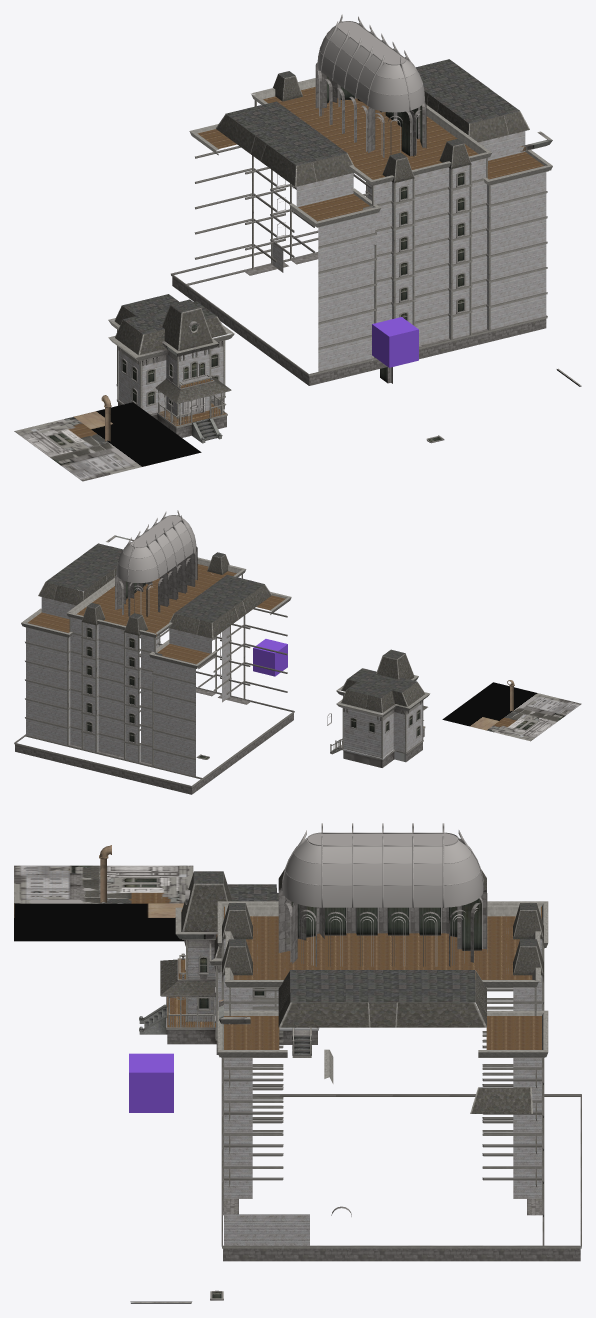
File: C1testcompPlusv2.glb
The picture shows the model from 3 angles, top to bottom: view 1: azimuth 30°, elevation 25°; view 2: azimuth 150°, elevation 25°; view 3: azimuth 270°, elevation 25°; orthographic projection. The views are drawn at different scales.
Parts seen in each view (by area): view 1: Plane, RoundWindowMini, Cube, Sphere.001, RoofslantTall, Sphere.008, RoofSlant1.023, Sphere.009, Sphere.011, Sphere.010, RoofSlant1.013, TinRoofDomeedge (+11 smaller); view 2: Plane, RoundWindowMini, Cube, Sphere.002, Sphere.010, Sphere.011, Sphere.009, RoofSlant1.027, Sphere.008, Sphere.003, RoofSlant1.017, RoofSlant1.031 (+9 smaller); view 3: Plane, RoundWindowMini, Cube, Sphere.003, TinRoofDomeedge, RoofSlant1.016, RoofSlant1.012, Sphere.004, Sphere.005, Sphere.006, TinRoofDomeside, defaultMaterial.009 (+33 smaller).
Boxes of the visible parts, <box> form: Plane: <box>14,402,201,481</box>; RoundWindowMini: <box>108,318,234,443</box>; Cube: <box>372,317,418,367</box>; Sphere.001: <box>368,57,410,112</box>; RoofslantTall: <box>178,308,213,350</box>; Sphere.008: <box>322,27,359,80</box>; RoofSlant1.023: <box>312,153,353,181</box>; Sphere.009: <box>333,35,370,89</box>; Sphere.011: <box>356,52,393,105</box>; Sphere.010: <box>345,44,382,97</box>; RoofSlant1.013: <box>468,115,508,142</box>; TinRoofDomeedge: <box>395,50,424,110</box>; Plane: <box>442,682,581,741</box>; RoundWindowMini: <box>330,690,430,767</box>; Cube: <box>253,639,287,676</box>; Sphere.002: <box>128,540,159,582</box>; Sphere.010: <box>156,521,185,564</box>; Sphere.011: <box>165,515,193,558</box>; Sphere.009: <box>148,528,176,571</box>; RoofSlant1.027: <box>169,613,199,634</box>; Sphere.008: <box>139,534,167,577</box>; Sphere.003: <box>116,542,138,581</box>; RoofSlant1.017: <box>53,585,83,605</box>; RoofSlant1.031: <box>212,606,238,638</box>; Plane: <box>14,865,193,941</box>; RoundWindowMini: <box>139,940,319,1057</box>; Cube: <box>129,1053,173,1112</box>; Sphere.003: <box>444,830,484,907</box>; TinRoofDomeedge: <box>282,836,322,907</box>; RoofSlant1.016: <box>395,1002,486,1027</box>; RoofSlant1.012: <box>279,1002,370,1027</box>; Sphere.004: <box>414,836,444,907</box>; Sphere.005: <box>383,836,413,907</box>; Sphere.006: <box>353,836,383,907</box>; TinRoofDomeside: <box>323,836,353,907</box>; defaultMaterial.009: <box>182,883,227,931</box>.
Size of what is drawn, in the model's own units: 36.89 by 22.96 by 25.34.
Materials: 2 (1 with a texture image).
